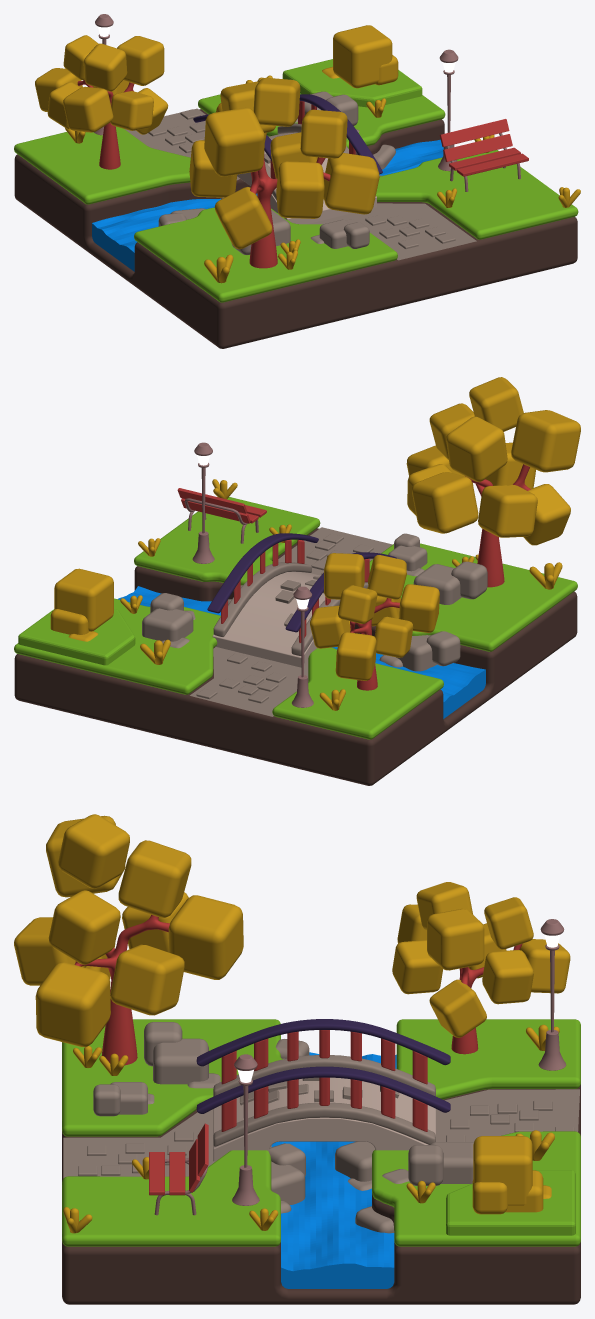
File: chapter1.1.glb
3 views of the same model, one above another, from view 1: azimuth 30°, elevation 25°; view 2: azimuth 150°, elevation 25°; view 3: azimuth 270°, elevation 25° (orthographic). The views are drawn at different scales.
Parts seen in each view (by area): view 1: grass.001, ground, path, Plane, Cube, Bursh, bench, Cube.003, grass.004, Cube.007, Cube.006, Cube.002 (+22 smaller); view 2: ground, grass.001, path, brigde, Bursh, Cube, grass.004, Cube.005, Cube.001, Plane, Cube.008, Plane.003 (+25 smaller); view 3: grass.001, ground, Plane, path, brigde, Plane.003, Plane.002, Plane.001, Bursh, Cube.003, grass.004, Cube.005 (+26 smaller).
Boxes of the visible parts, box(x1,y1,x2,y2) form: grass.001: box(14, 93, 578, 302); ground: box(14, 109, 577, 348); path: box(124, 108, 476, 260); Plane: box(92, 139, 443, 271); Cube: box(204, 107, 264, 176); Bursh: box(322, 25, 398, 88); bench: box(439, 119, 528, 176); Cube.003: box(323, 153, 379, 214); grass.004: box(282, 59, 422, 107); Cube.007: box(276, 161, 324, 218); Cube.006: box(214, 187, 272, 249); Cube.002: box(300, 109, 347, 158); ground: box(14, 528, 577, 785); grass.001: box(14, 497, 577, 739); path: box(190, 527, 392, 716); brigde: box(212, 571, 325, 667); Bursh: box(50, 568, 113, 641); Cube: box(511, 410, 580, 472); grass.004: box(18, 609, 135, 665); Cube.005: box(412, 472, 478, 533); Cube.001: box(446, 416, 507, 482); Plane: box(117, 586, 485, 718); Cube.008: box(478, 485, 537, 537); Plane.003: box(207, 533, 396, 632); grass.001: box(62, 1019, 580, 1246); ground: box(62, 1084, 580, 1304); Plane: box(271, 1052, 396, 1288); path: box(63, 1089, 579, 1178); brigde: box(213, 1077, 435, 1161); Plane.003: box(196, 1019, 450, 1113); Plane.002: box(221, 1030, 427, 1131); Plane.001: box(213, 1055, 435, 1146); Bursh: box(472, 1136, 551, 1214); Cube.003: box(35, 962, 110, 1047); grass.004: box(446, 1170, 575, 1235); Cube.005: box(168, 895, 243, 979).
Size of what is drawn, in the model's own units: 8.22 by 5.21 by 8.74.
